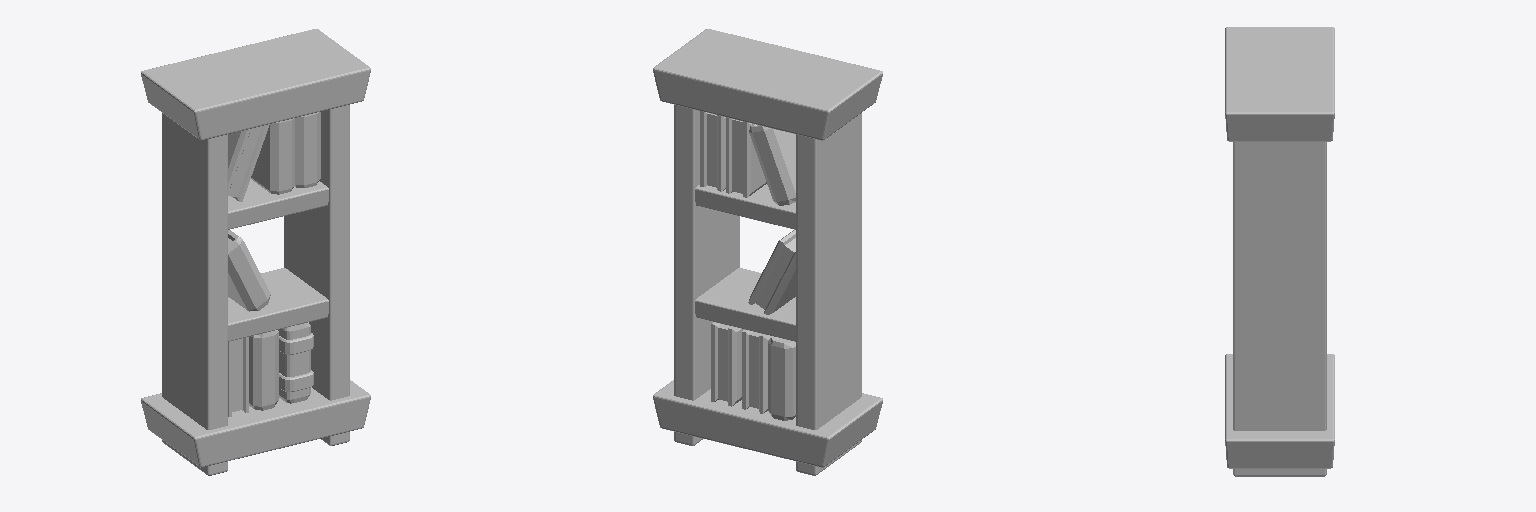
Rendered from bookcaseFilled.obj.
The picture shows the model from 3 angles: view 1: azimuth 30°, elevation 25°; view 2: azimuth 150°, elevation 25°; view 3: azimuth 270°, elevation 25°; orthographic projection.
Parts seen in each view (by area): view 1: bookcaseFilled_Cube.4110; view 2: bookcaseFilled_Cube.4110; view 3: bookcaseFilled_Cube.4110.
Part boxes in pixels (x1,y1,x2,y2): bookcaseFilled_Cube.4110: (141,29,370,475); bookcaseFilled_Cube.4110: (653,29,882,475); bookcaseFilled_Cube.4110: (1225,27,1334,476).
Size of the model in its own units: 0.9949 by 2 by 0.5333.